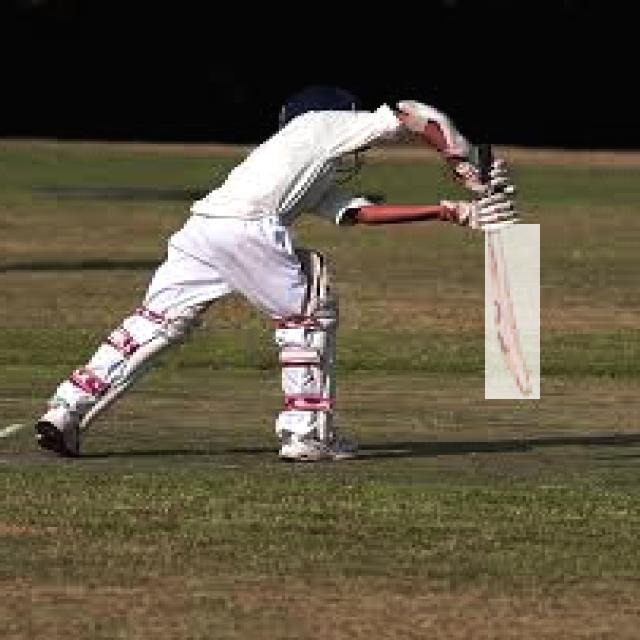bat: (484, 224, 541, 400)
toe: (517, 387, 538, 400)
